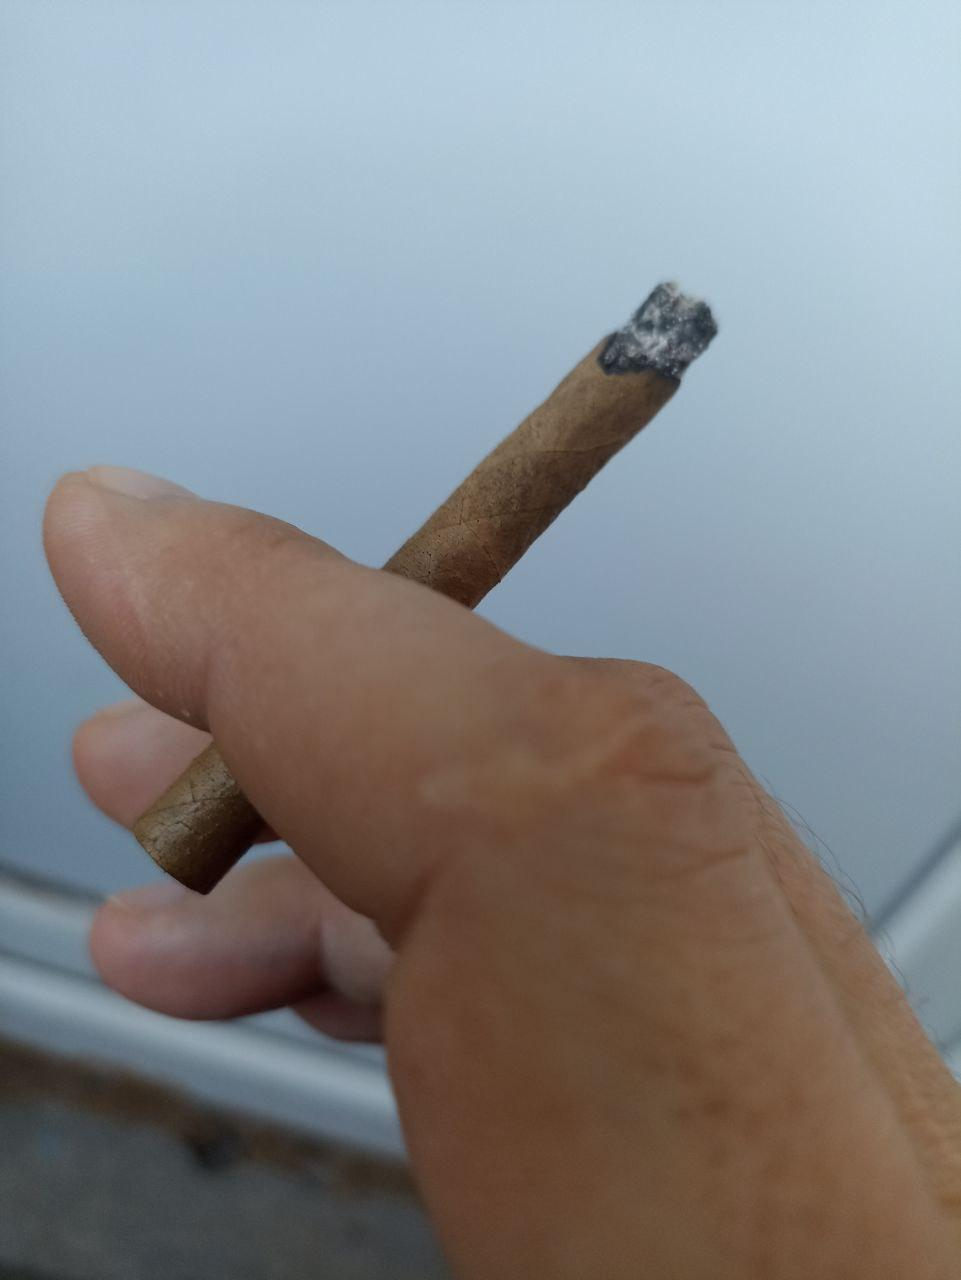cigarette: (131, 278, 717, 898)
